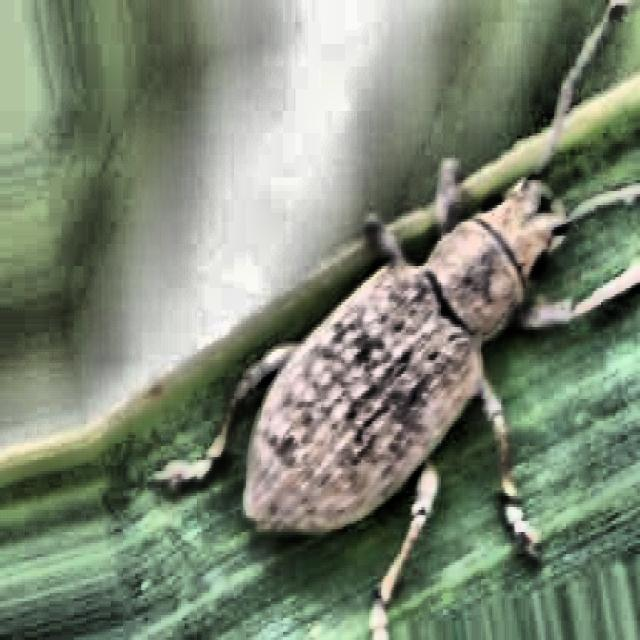Stink bug: (206, 62, 621, 640)
